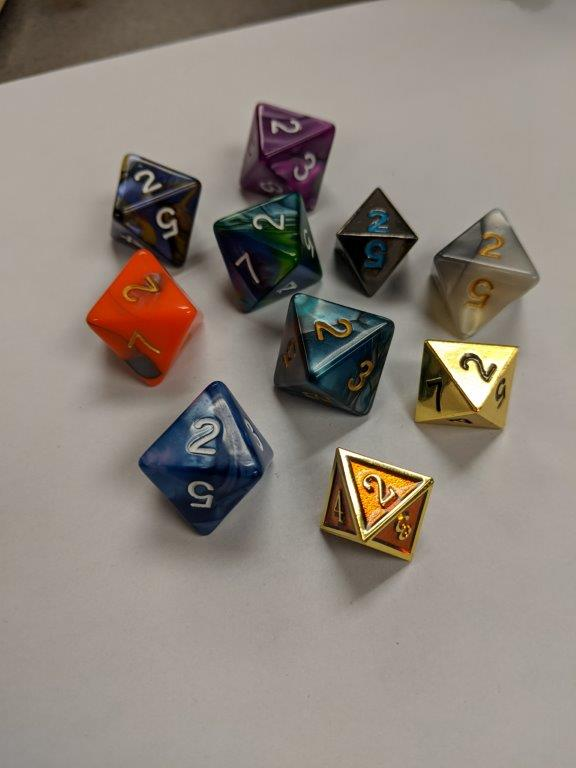d8-2: (132, 379, 273, 538), (80, 245, 203, 386), (267, 290, 396, 417), (316, 446, 437, 563), (432, 208, 540, 336), (212, 195, 322, 311), (110, 150, 202, 272), (415, 336, 519, 435), (242, 101, 335, 208), (335, 189, 415, 299)
